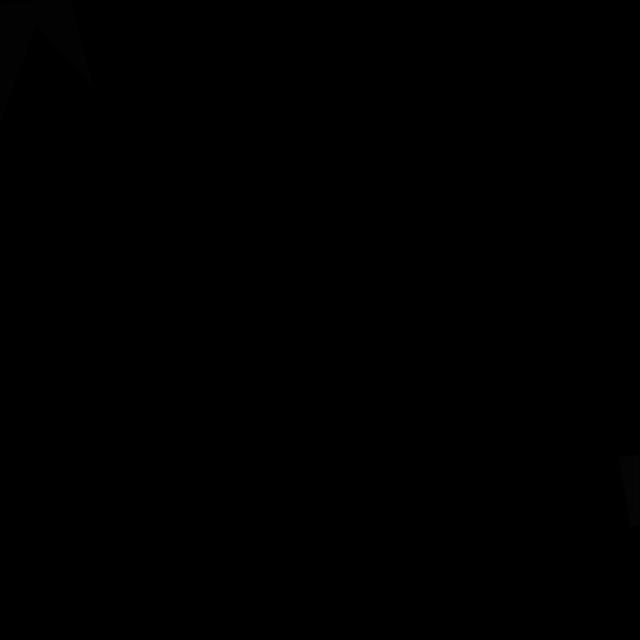cardboard: (0, 0, 94, 123)
soft_plastic: (618, 455, 640, 528)
